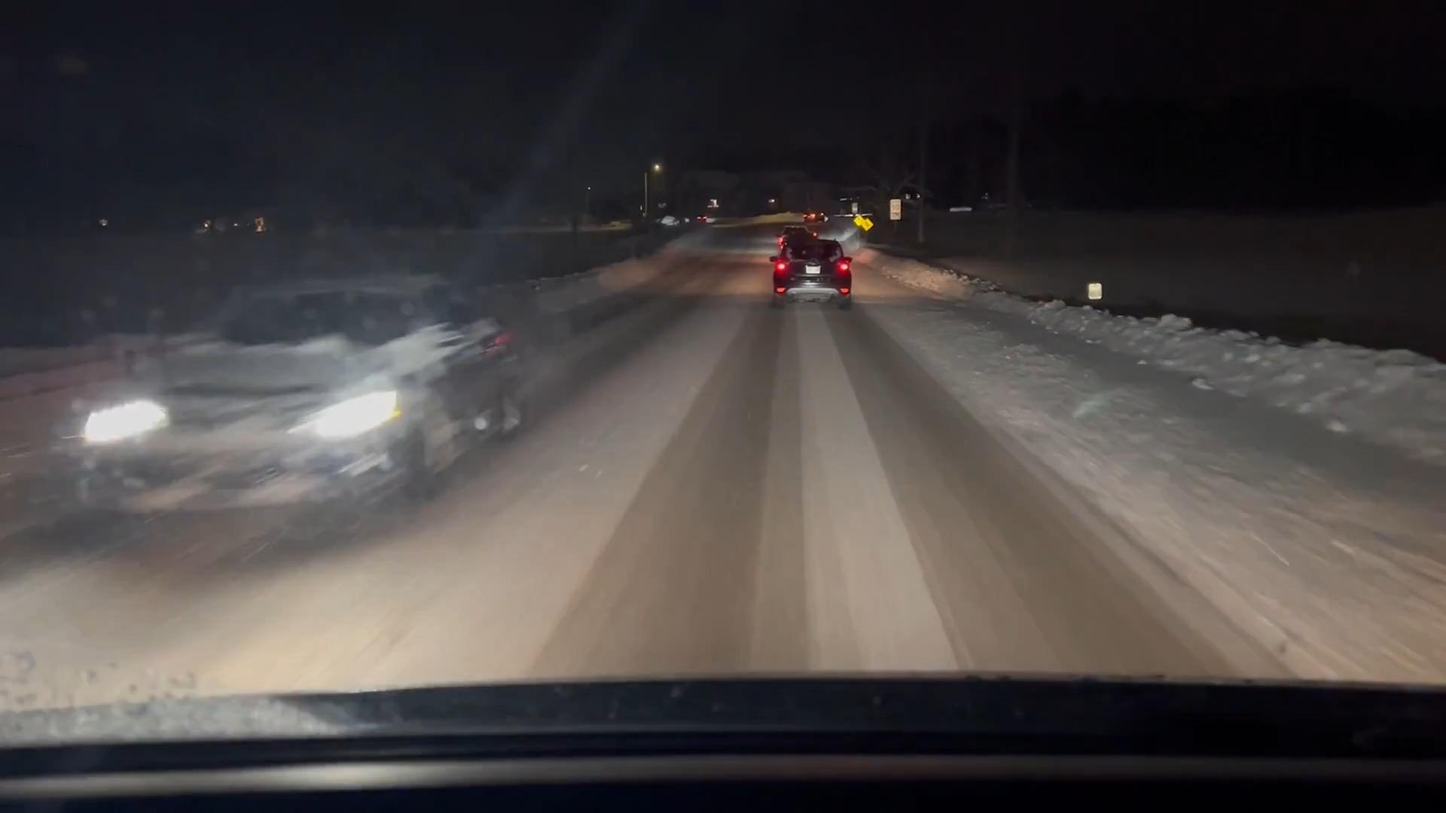Snow: (0, 219, 1446, 705)
